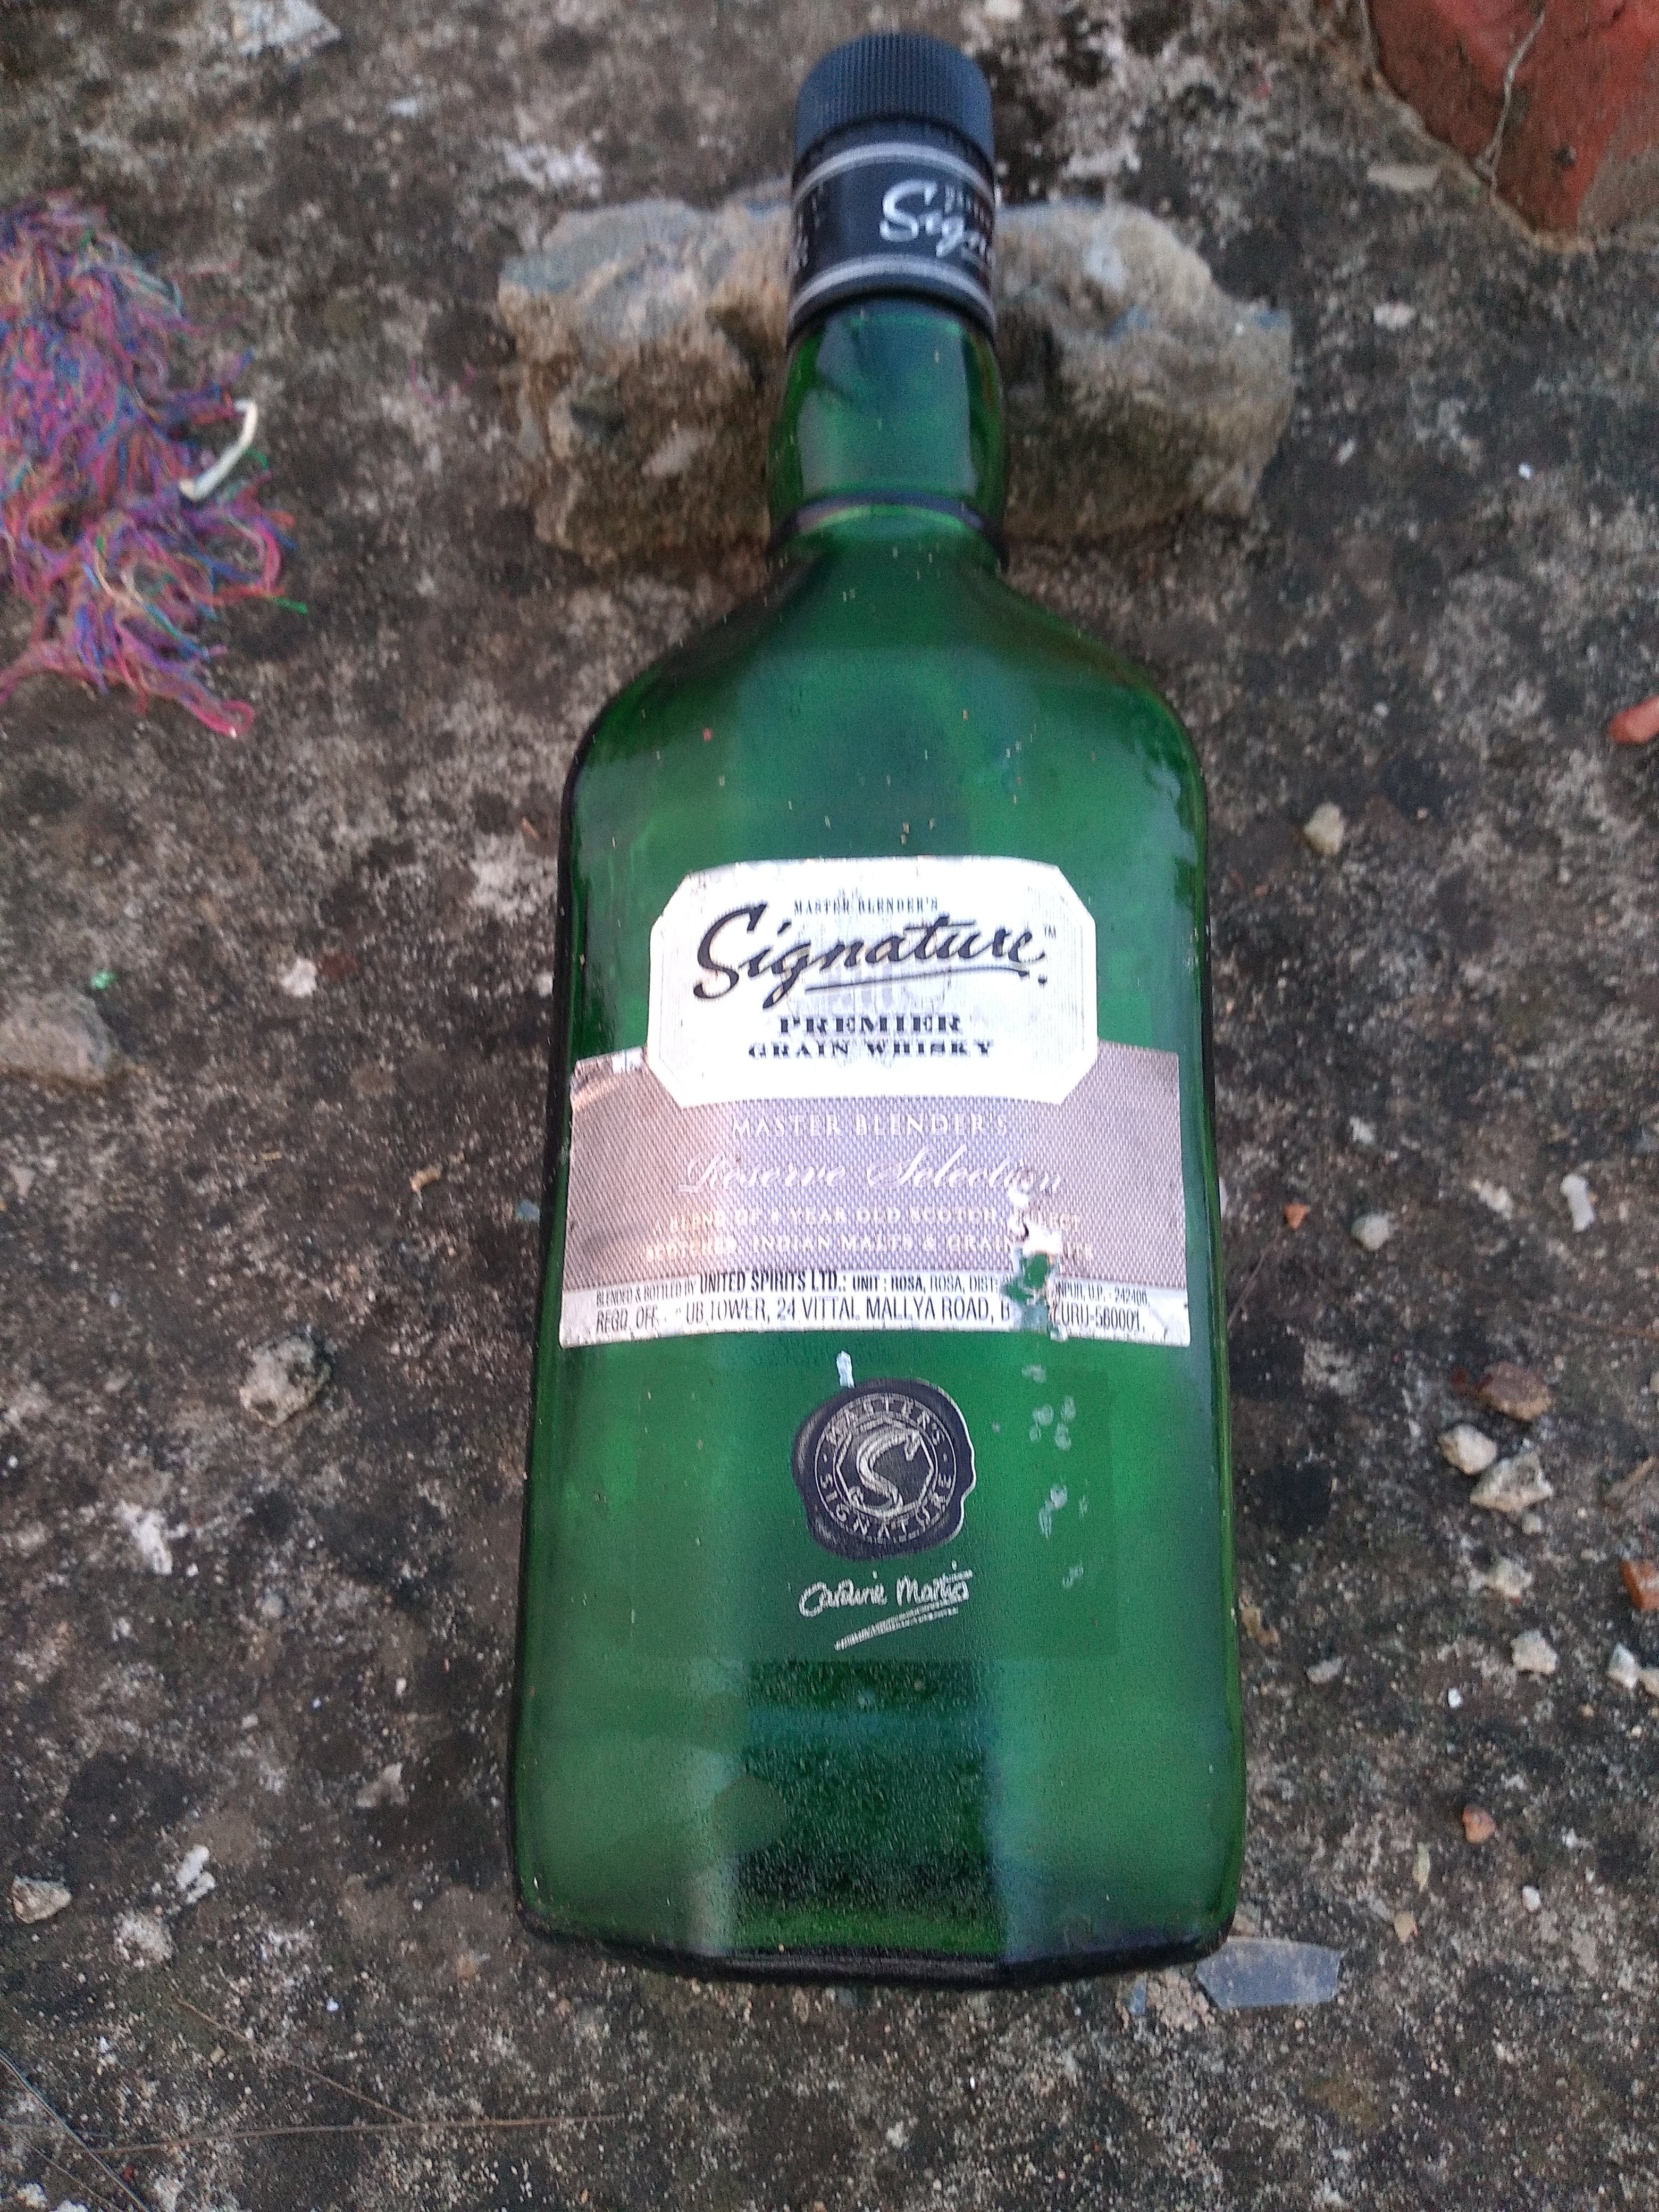glass_bottle: (455, 21, 1352, 2024)
